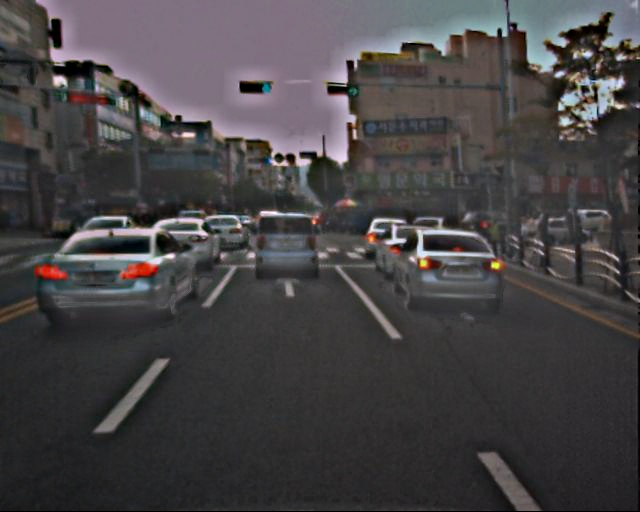person: (486, 218, 502, 258)
